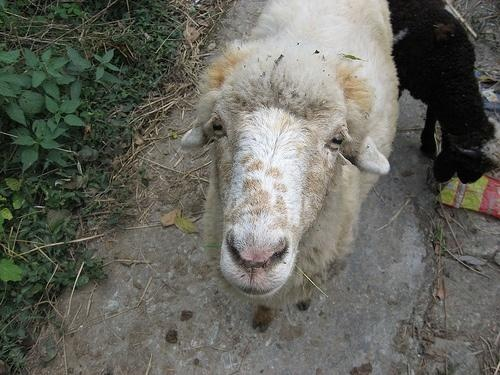sheep: (180, 1, 401, 332), (387, 1, 500, 187)
